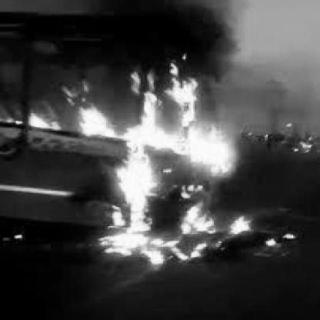Fire: (1, 54, 297, 264)
Smoke: (47, 0, 250, 67)
